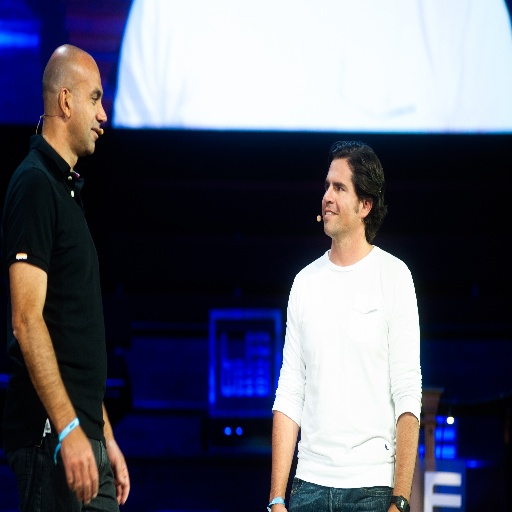hand: (58, 425, 99, 509), (105, 438, 130, 508), (268, 503, 286, 511)
